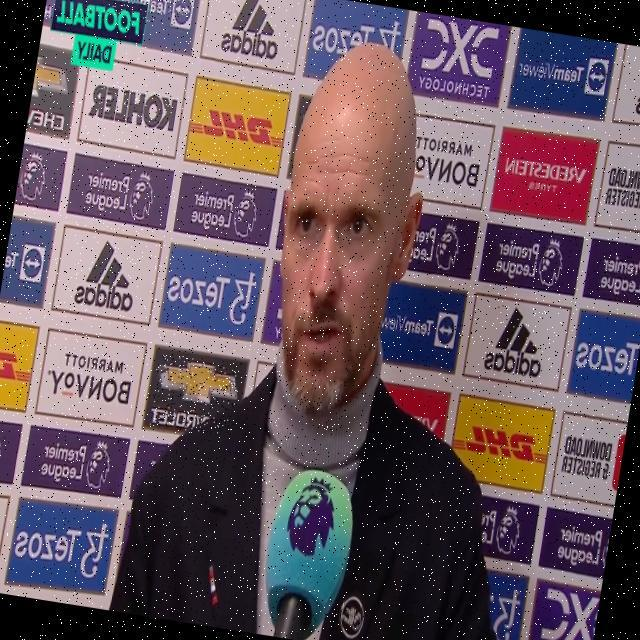Adidas: (72, 234, 144, 316), (480, 301, 551, 380), (218, 0, 287, 64)
Chevrolet: (148, 353, 242, 438)
Kohler: (88, 82, 180, 133)
TeamViewer: (514, 46, 609, 97), (100, 0, 195, 28)
